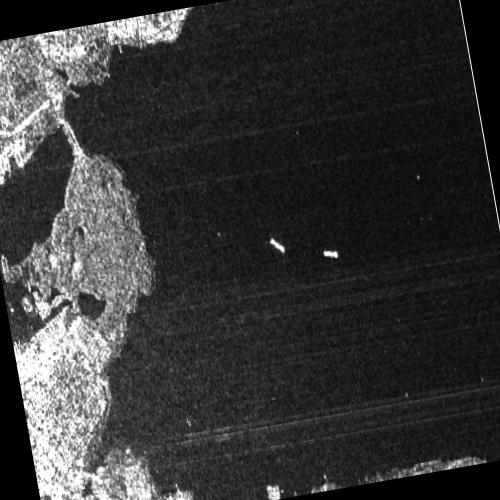ship: (269, 237, 285, 253), (323, 249, 338, 258)
